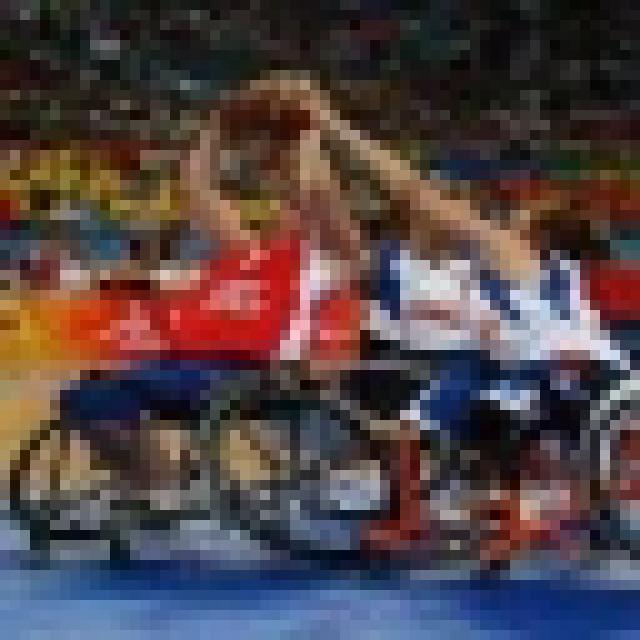wheelchairs: (197, 330, 591, 587), (2, 353, 295, 543)
